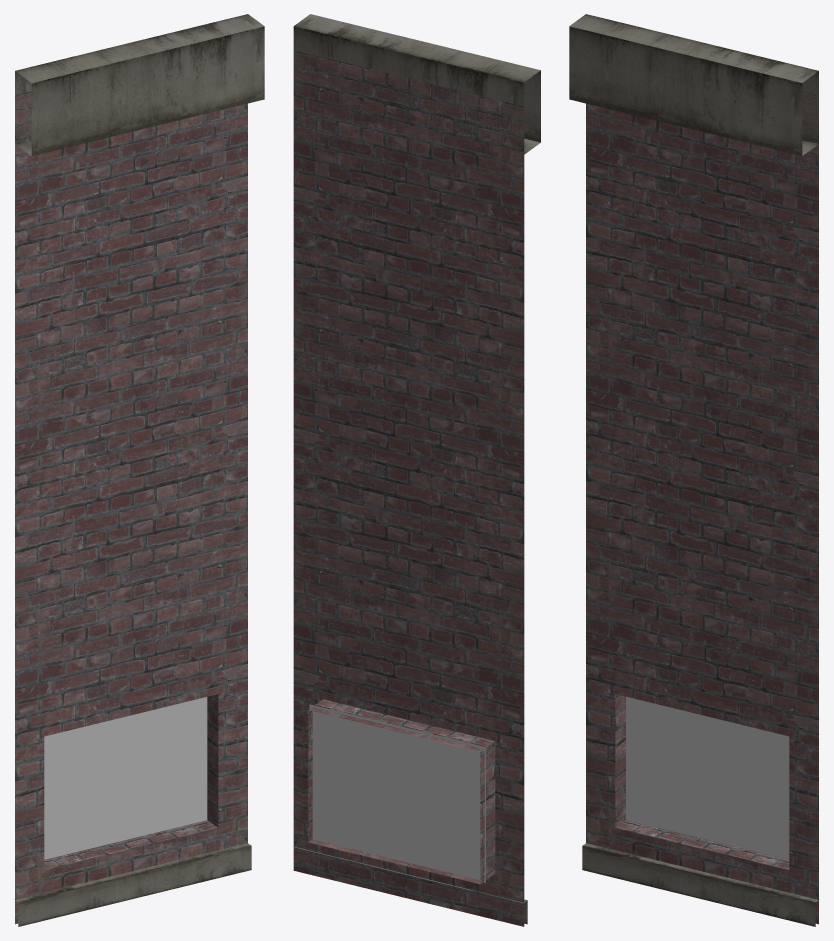
Rendered from Wall_A_Brick_Window_G_1x.FBX.
3 views of the same model, side by side, from view 1: azimuth 30°, elevation 25°; view 2: azimuth 150°, elevation 25°; view 3: azimuth 330°, elevation 25° (orthographic).
Visible parts, largest first — view 1: Wall_A_Brick_Window_G_1x; view 2: Wall_A_Brick_Window_G_1x; view 3: Wall_A_Brick_Window_G_1x.
Boxes of the visible parts, x1,y1,x2,y2 form: Wall_A_Brick_Window_G_1x: (14, 14, 264, 926); Wall_A_Brick_Window_G_1x: (293, 14, 540, 926); Wall_A_Brick_Window_G_1x: (569, 14, 819, 926).
Size of the model in its own units: 100 by 350 by 23.64.
